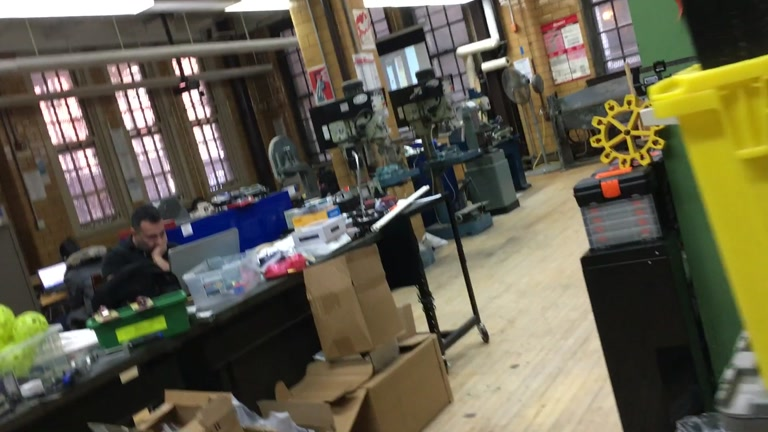gear: (588, 93, 667, 170)
